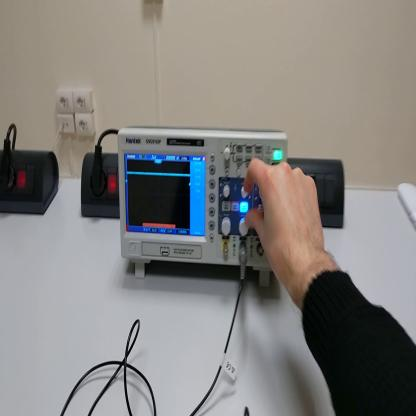hand: (242, 153, 327, 291)
oscilloscope: (119, 125, 291, 288)
socket: (2, 148, 61, 222), (79, 152, 120, 222)
